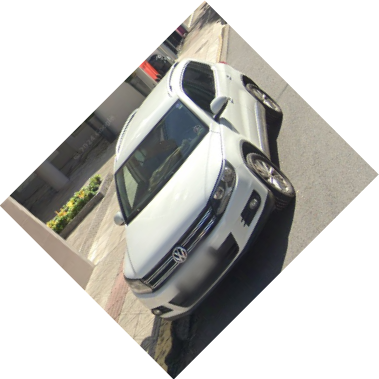car: (113, 57, 296, 323)
